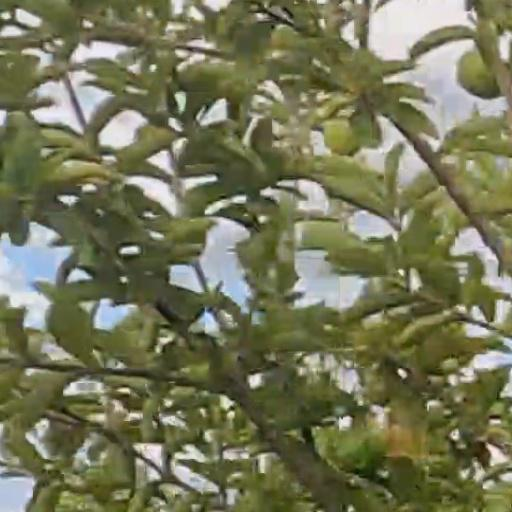acerola: (459, 49, 499, 100), (324, 117, 360, 156)
